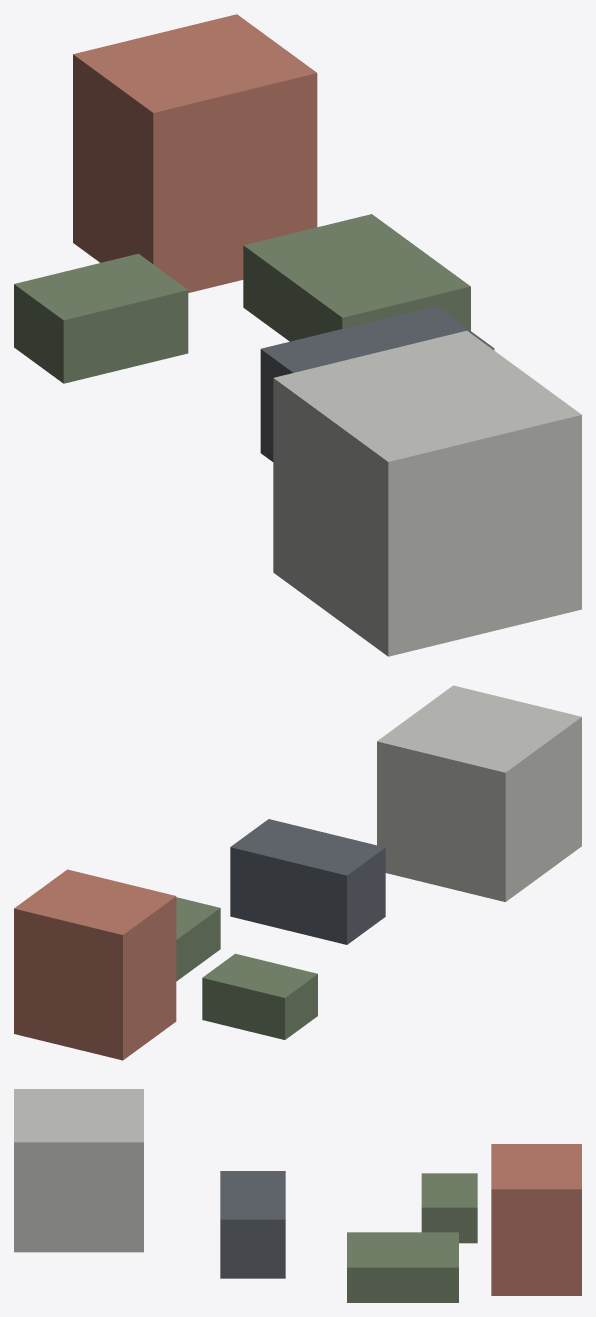
The model's file is synth-16-09.lod2.glb.
3 renders of one model, top to bottom at view 1: azimuth 30°, elevation 25°; view 2: azimuth 150°, elevation 25°; view 3: azimuth 270°, elevation 25°, orthographic. The views are drawn at different scales.
Visible parts, largest first — view 1: synth-16-09; view 2: synth-16-09; view 3: synth-16-09.
Part boxes in pixels (box(x1,y1,x2,y2)): synth-16-09: box(14, 14, 581, 656); synth-16-09: box(14, 685, 581, 1060); synth-16-09: box(14, 1089, 581, 1302).
Bounding box in the file's own units: 38.83 × 19.15 × 89.63.
